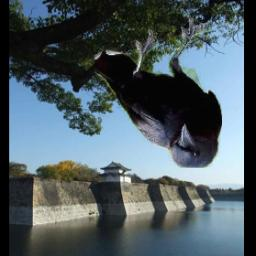Crow: (95, 15, 223, 168)
